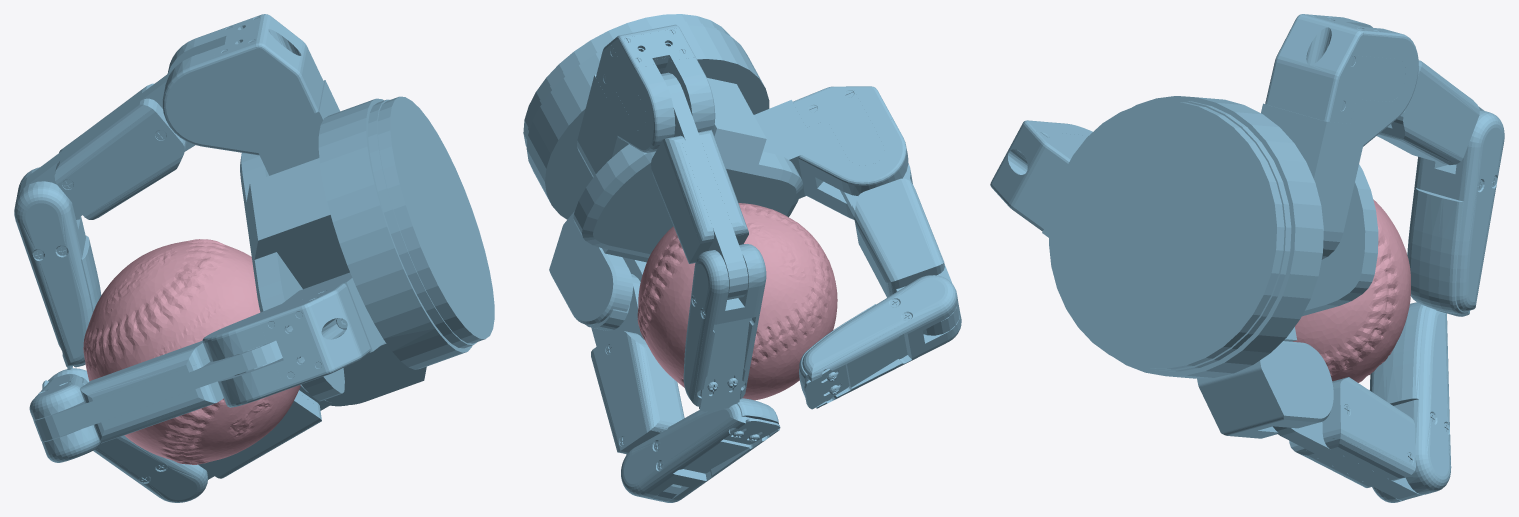
3 renders of one model, left to right at view 1: azimuth 30°, elevation 25°; view 2: azimuth 150°, elevation 25°; view 3: azimuth 270°, elevation 25°, orthographic. The views are drawn at different scales.
Visible parts, largest first — view 1: world; view 2: world; view 3: world.
Part boxes in pixels (left/top/right/bottom): world: left=14, top=14, right=494, bottom=502; world: left=523, top=14, right=961, bottom=502; world: left=990, top=14, right=1504, bottom=502.
Size of the model in its own units: 0.1741 by 0.1763 by 0.1629.
